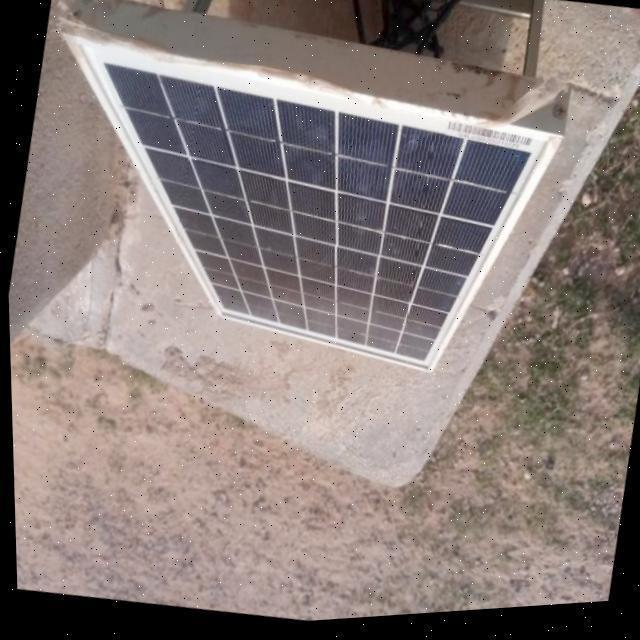Normal Solar Panel: (15, 2, 576, 414)
